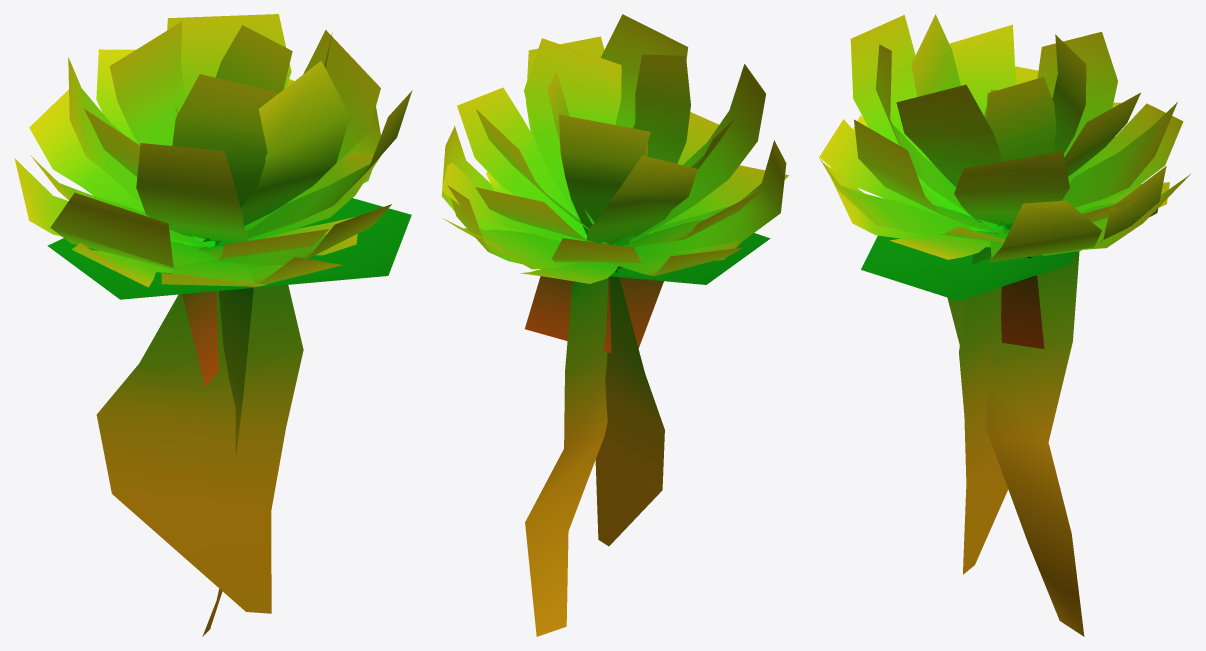
The model's file is Water Cabbage_LOD1_Var2_sjdlV.fbx.
3 views of the same model, side by side, from view 1: azimuth 30°, elevation 25°; view 2: azimuth 150°, elevation 25°; view 3: azimuth 270°, elevation 25° (orthographic). The views are drawn at different scales.
Parts seen in each view (by area): view 1: _18ce_Var2_LOD1; view 2: _18ce_Var2_LOD1; view 3: _18ce_Var2_LOD1.
Boxes of the visible parts, bbox=[...] form: _18ce_Var2_LOD1: bbox=[14, 14, 412, 636]; _18ce_Var2_LOD1: bbox=[441, 14, 788, 636]; _18ce_Var2_LOD1: bbox=[818, 14, 1190, 636].
Size of the model in its own units: 18.42 by 32.01 by 18.43.
